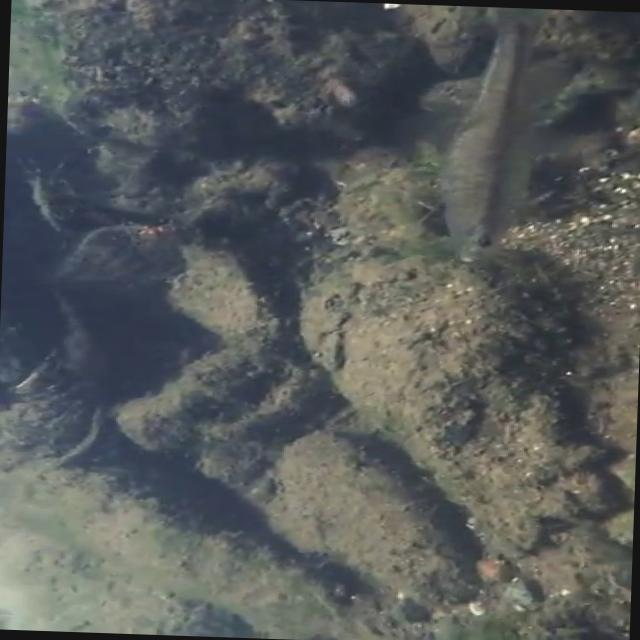Cakil Baligi: (411, 6, 574, 264)
